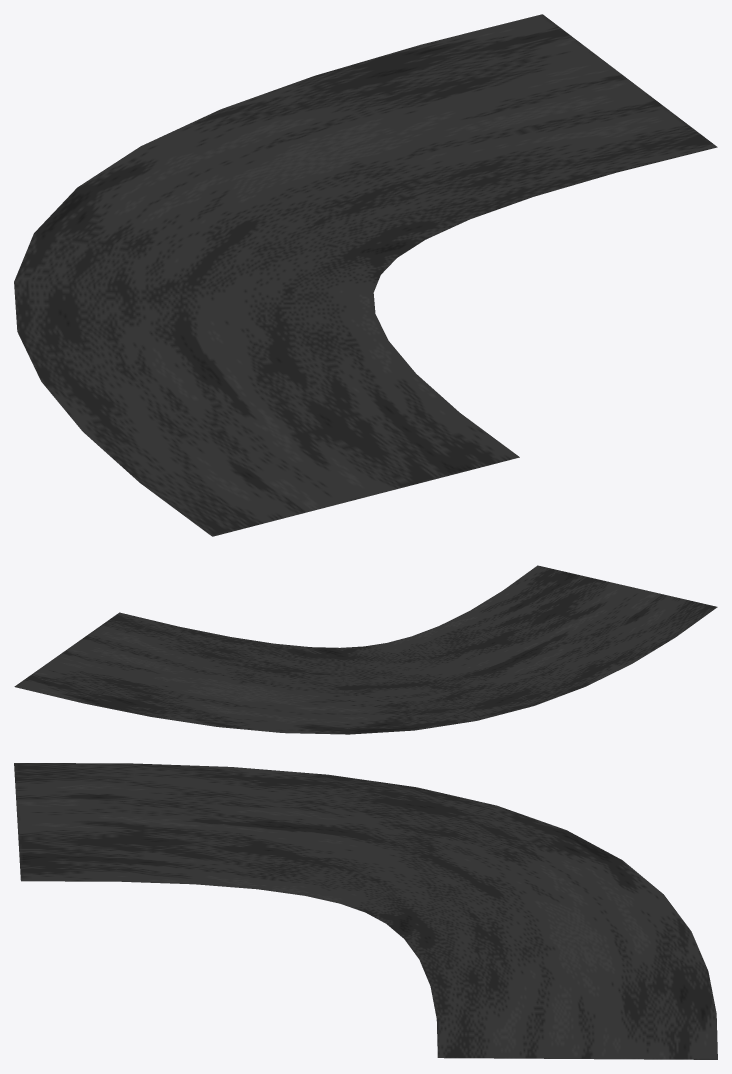
File: Curvenew2.fbx
The picture shows the model from 3 angles, top to bottom: view 1: azimuth 30°, elevation 25°; view 2: azimuth 150°, elevation 25°; view 3: azimuth 270°, elevation 25°; orthographic projection. The views are drawn at different scales.
Visible parts, largest first — view 1: BezierCurve; view 2: BezierCurve; view 3: BezierCurve.
Boxes of the visible parts, x1,y1,x2,y2 form: BezierCurve: (14,14,717,536); BezierCurve: (14,565,717,734); BezierCurve: (14,763,717,1059).
Bounding box in the file's own units: 502 × 9.45e-05 × 502.
Materials: 1 (1 with a texture image).
